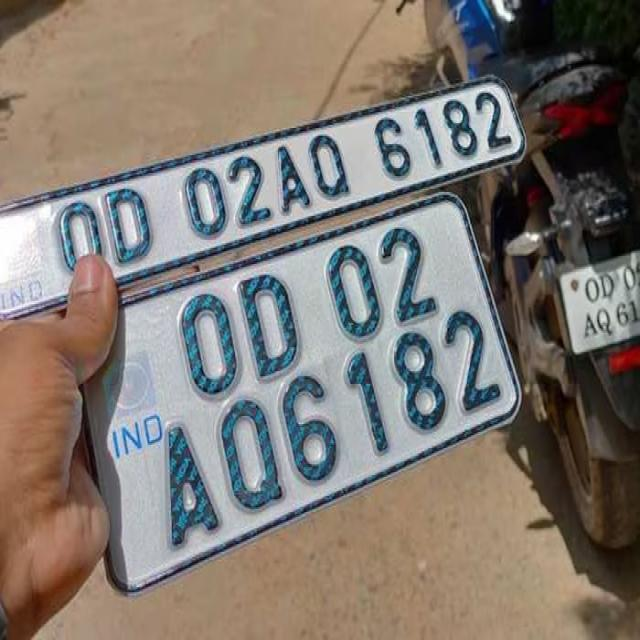0: (326, 245, 384, 340), (184, 167, 230, 240), (624, 266, 635, 290)
1: (345, 353, 388, 458), (412, 110, 445, 172), (627, 297, 640, 325)
2: (444, 309, 501, 417), (380, 228, 439, 326), (225, 158, 272, 224), (475, 90, 513, 152)
6: (282, 373, 336, 490), (374, 113, 412, 181), (617, 301, 629, 329)
8: (394, 337, 448, 429), (446, 101, 477, 161)
a: (165, 425, 216, 553), (272, 144, 312, 212), (583, 312, 596, 341)
d: (237, 278, 300, 385), (107, 186, 151, 266), (601, 273, 615, 298)
o: (179, 291, 240, 396), (57, 204, 105, 272), (586, 278, 599, 303)
q: (220, 395, 287, 518), (310, 134, 352, 202), (597, 307, 614, 338)
